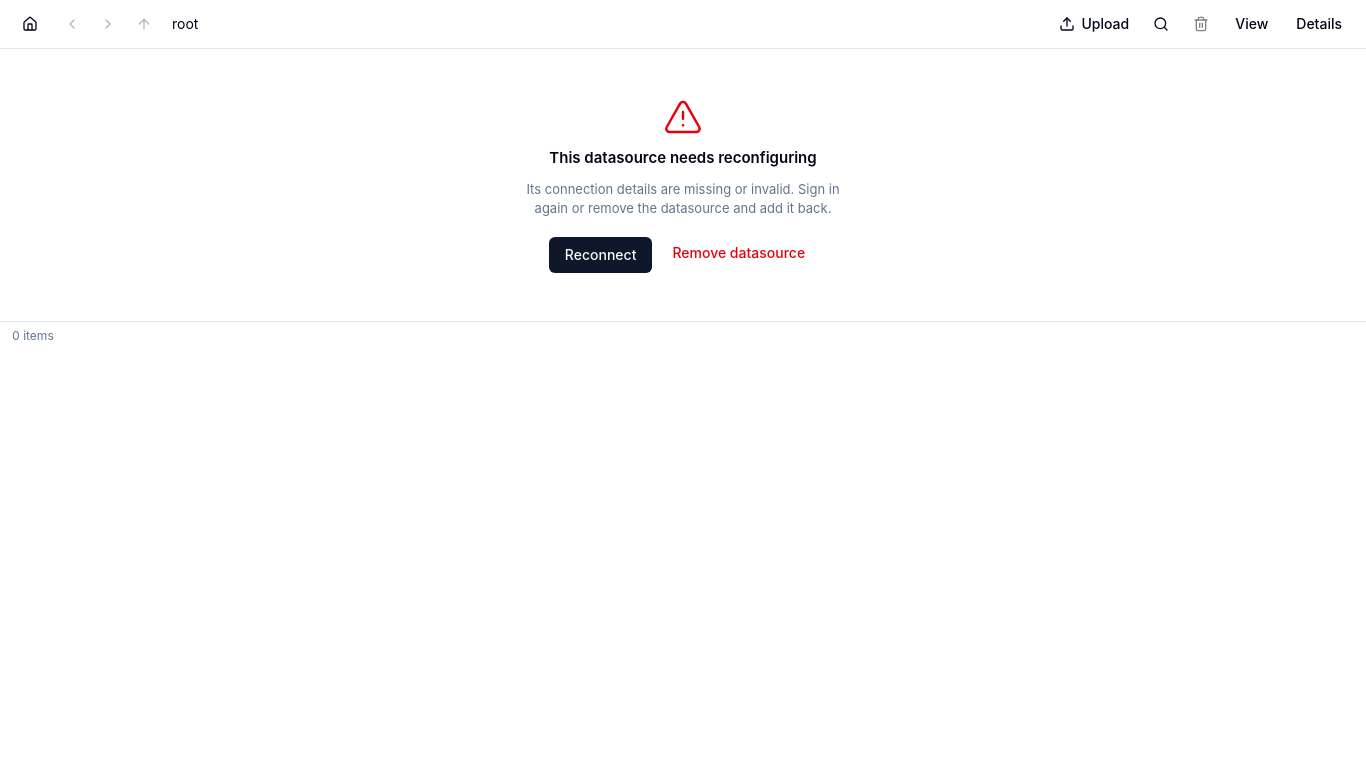
/datasources/explore route page (task 2.3) › flips to 'Datasource not found' after Remove confirms from InvalidDatasourceState
Expected: the message with test id "file-explorer-state-invalid-datasource" is shown, [526,97,840,272]
Click the button "Remove datasource". click: {"x": 739, "y": 252}
box: [660,236,817,268]
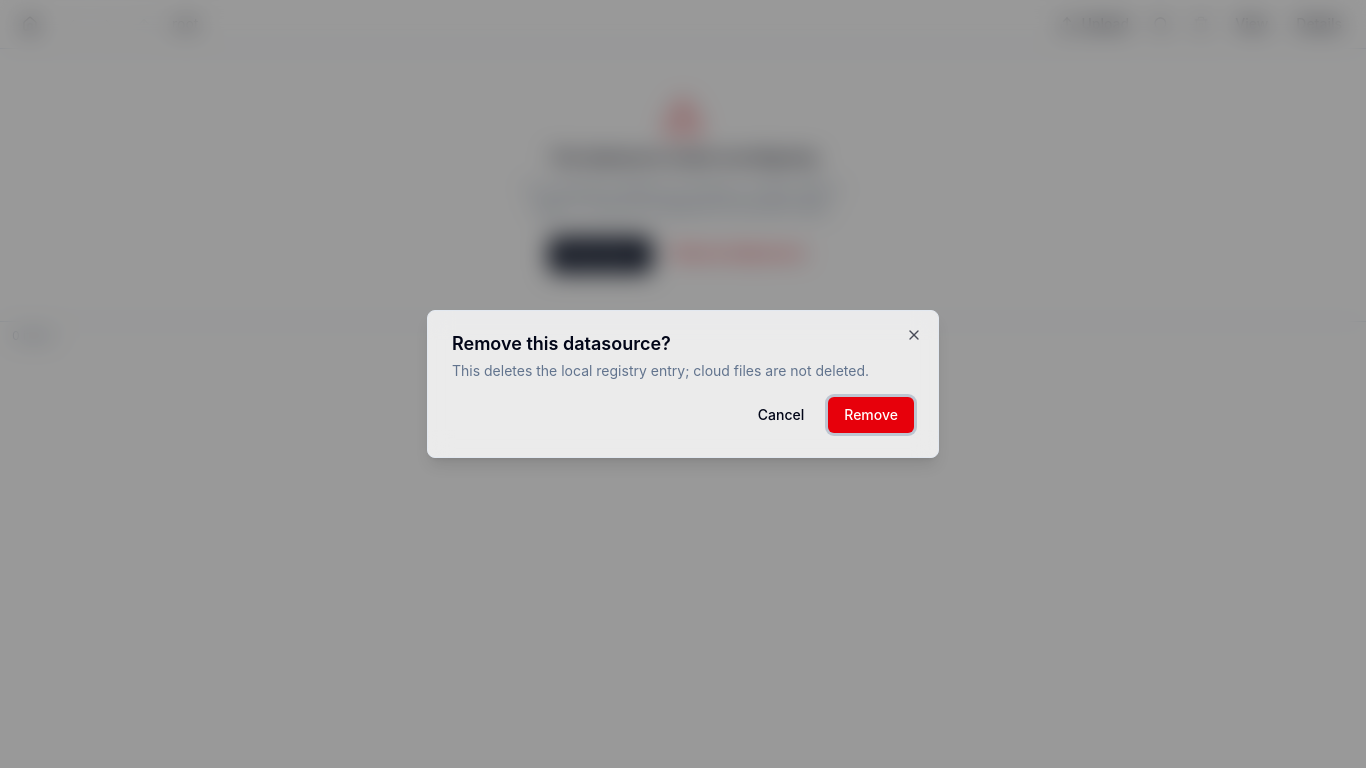
Result: the dialog is shown at [427,310,939,458]
Click the button "Remove". click: {"x": 871, "y": 415}
box: [828,397,914,433]
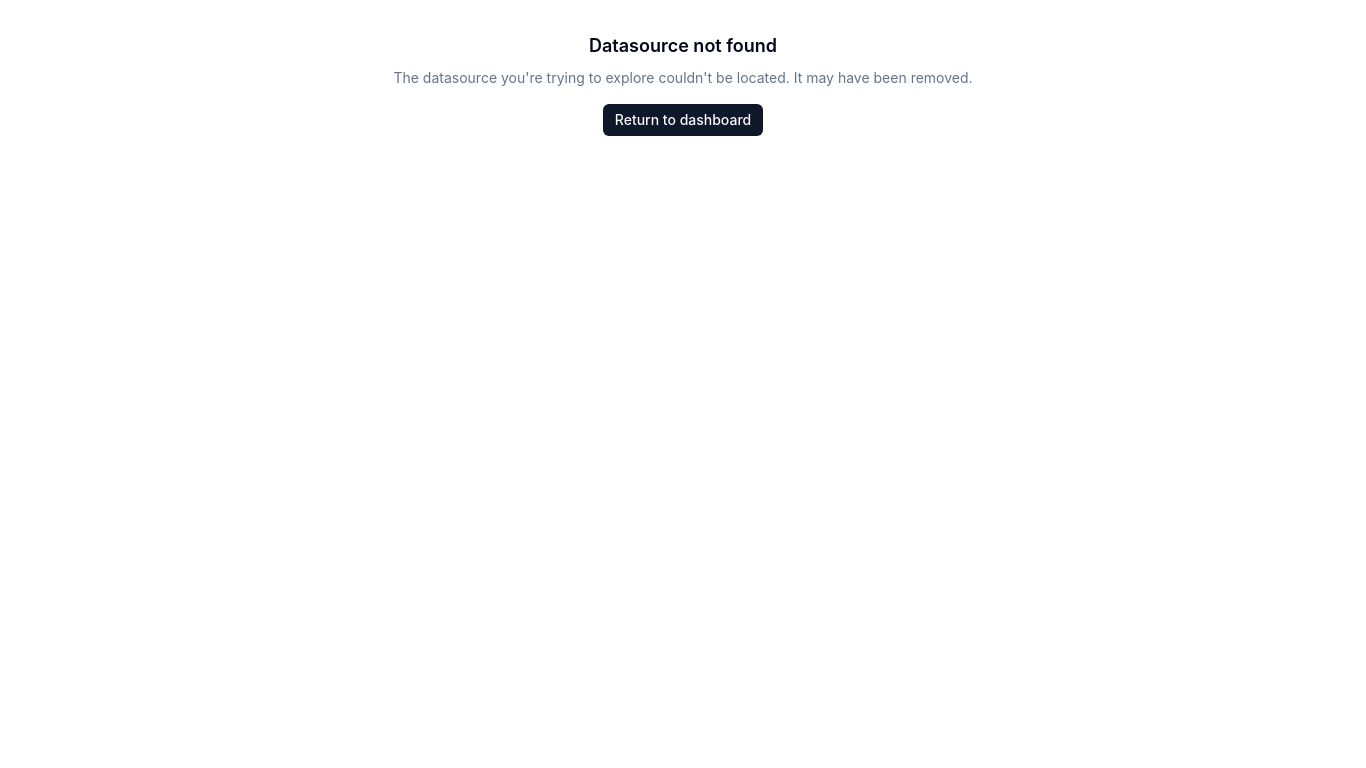
Result: the message with test id "file-explorer-state-invalid-datasource" is gone
Result: the heading "Datasource not found" is shown at [589,35,777,56]
